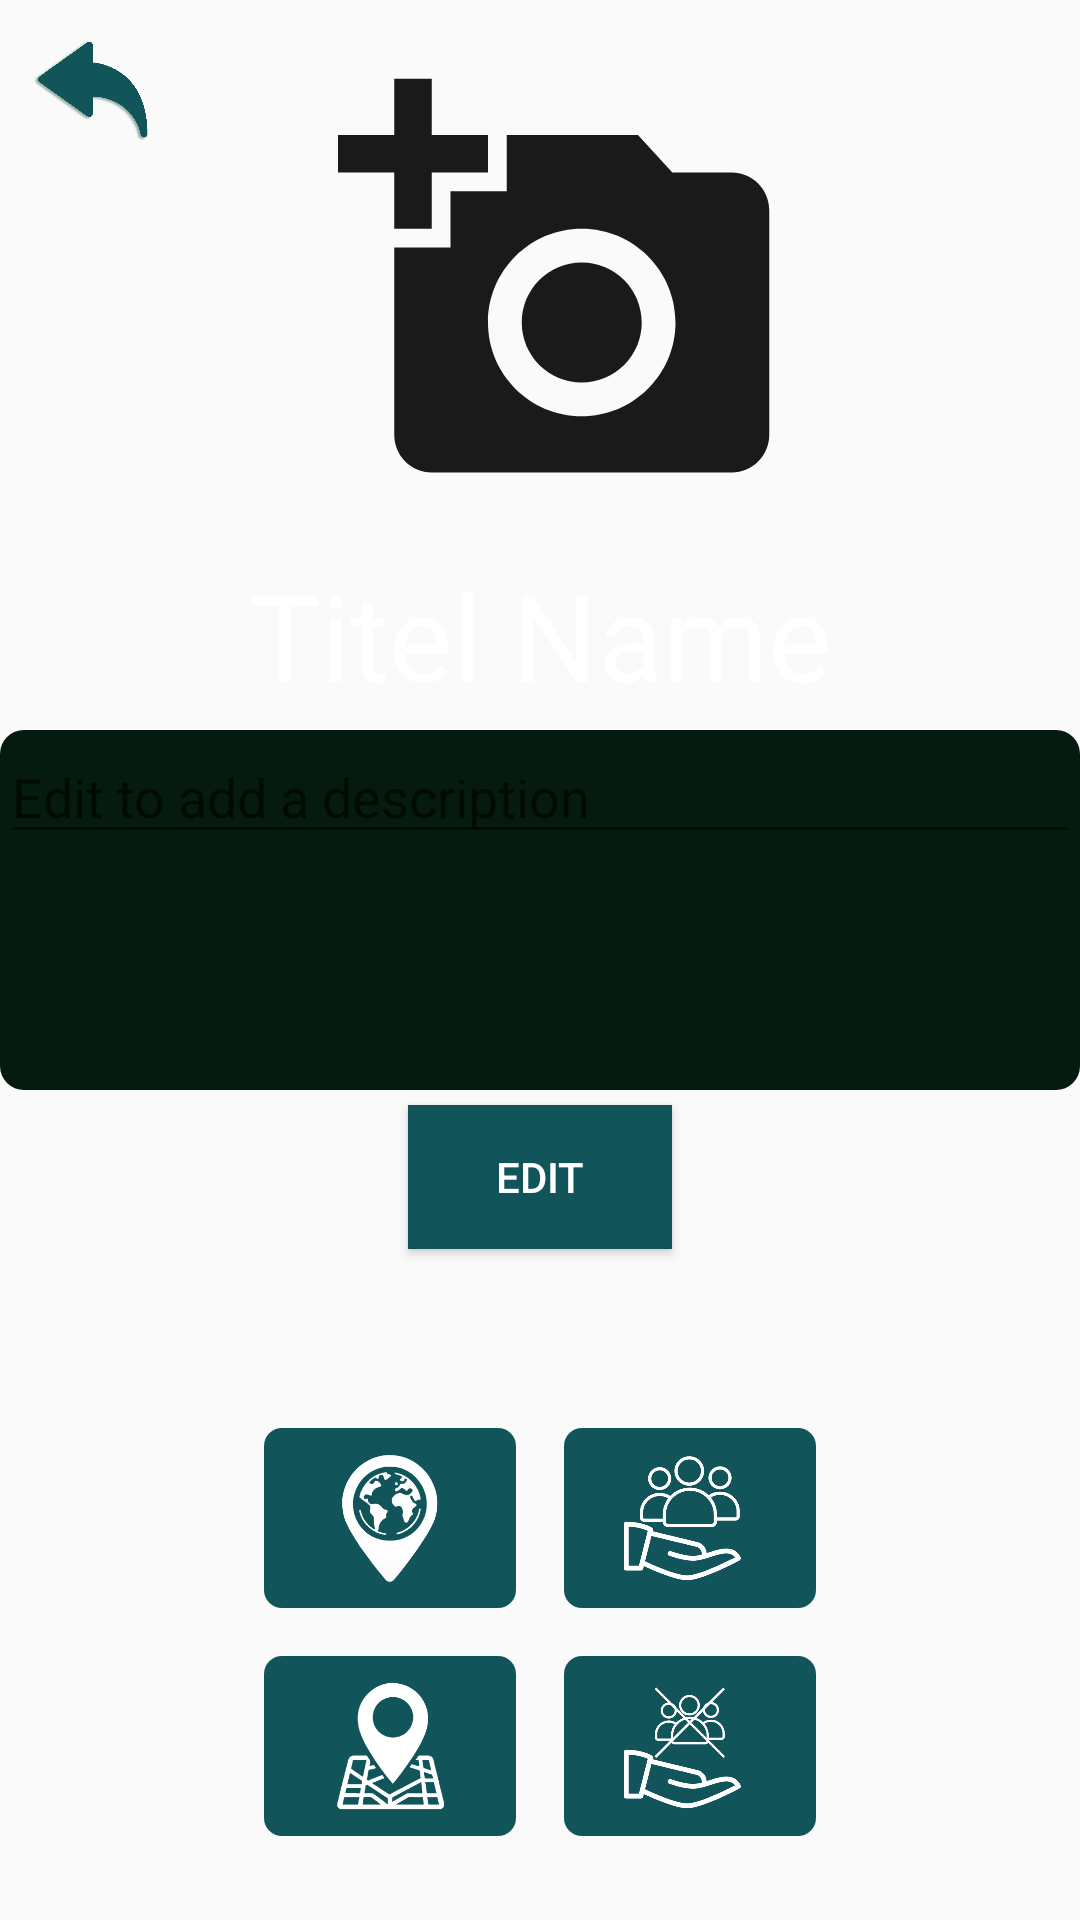

Where to tap for icons on this 1080 x 1920 app screen, as [x,y]:
back arrow: [91,91]
save gps medium: [390,1518]
share public: [690,1518]
show gps medium: [390,1746]
stop share: [690,1746]
